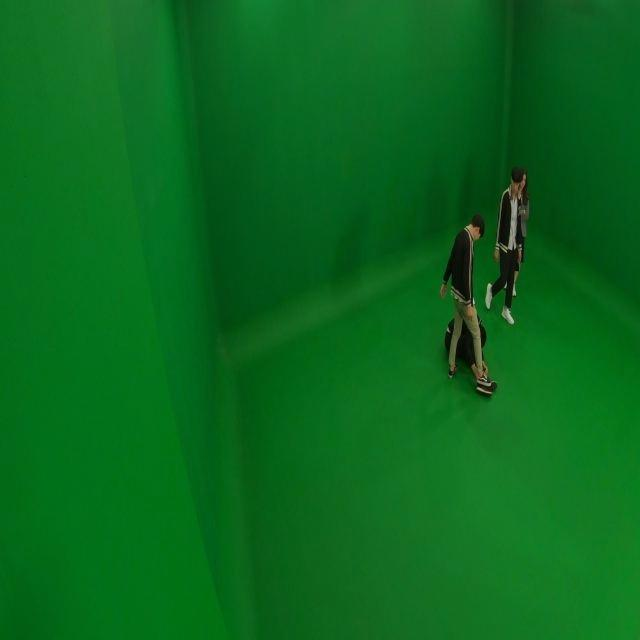fight: (440, 212, 494, 396)
non-fight: (487, 164, 528, 324)
